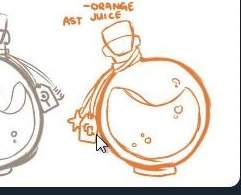cursor: (95, 133, 108, 153)
